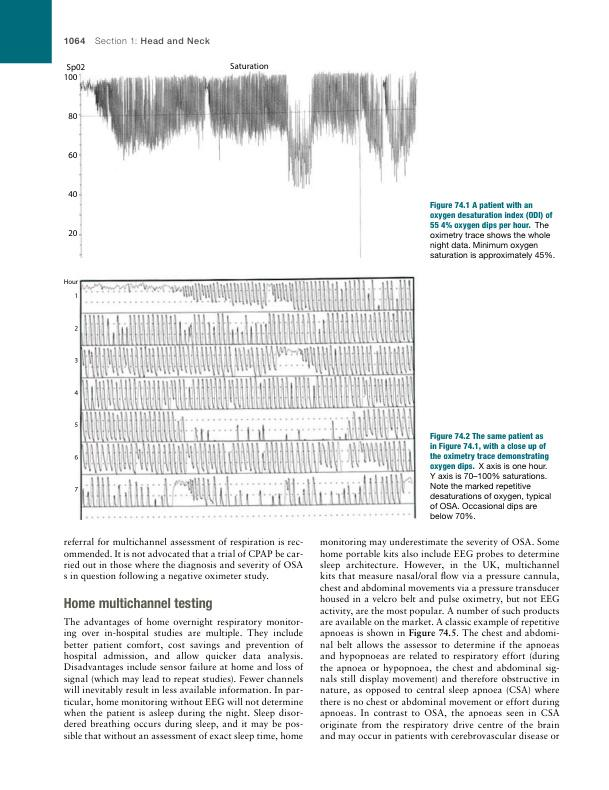caption: (428, 431, 553, 521), (428, 200, 556, 261)
header: (94, 36, 212, 45)
image: (61, 269, 425, 528), (61, 58, 424, 265)
sub-section-heading: (63, 597, 214, 612)
text: (319, 537, 561, 743), (62, 616, 305, 742), (63, 536, 304, 583)
